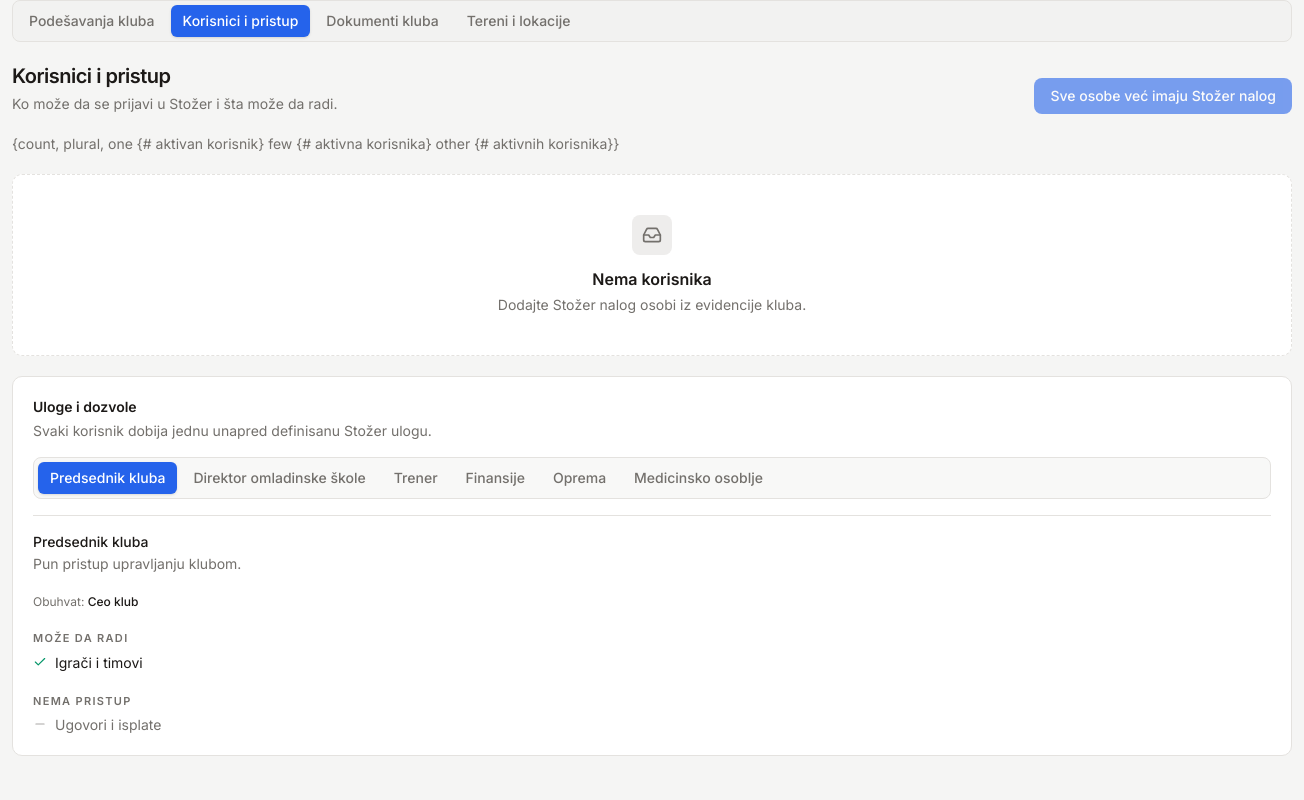
it: Club users page role registry › shows only the selected role in the detail panel
expect the text "Predsednik kluba" is shown: met, box 33,533 -> 148,550
expect the text "Pun pristup upravljanju klubom." is shown: met, box 33,555 -> 241,572
Click the tab "Trener".
click(416, 478)  # box 382,462 -> 450,494
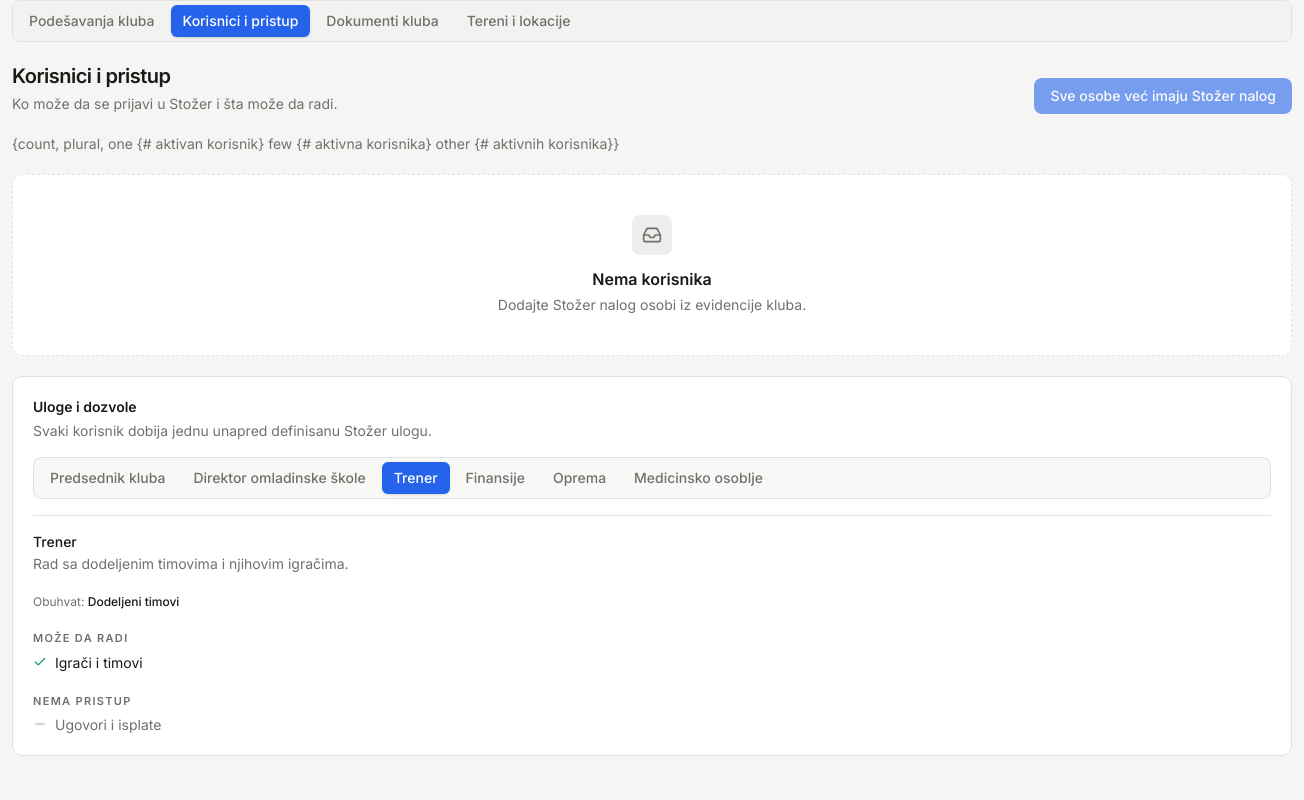
expect the text "Rad sa dodeljenim timovima i njihovim igračima." is shown: met, box 33,555 -> 349,572
expect the text "Dodeljeni timovi" is shown: met, box 88,594 -> 179,609
expect the text "Pun pristup upravljanju klubom." is gone: met
